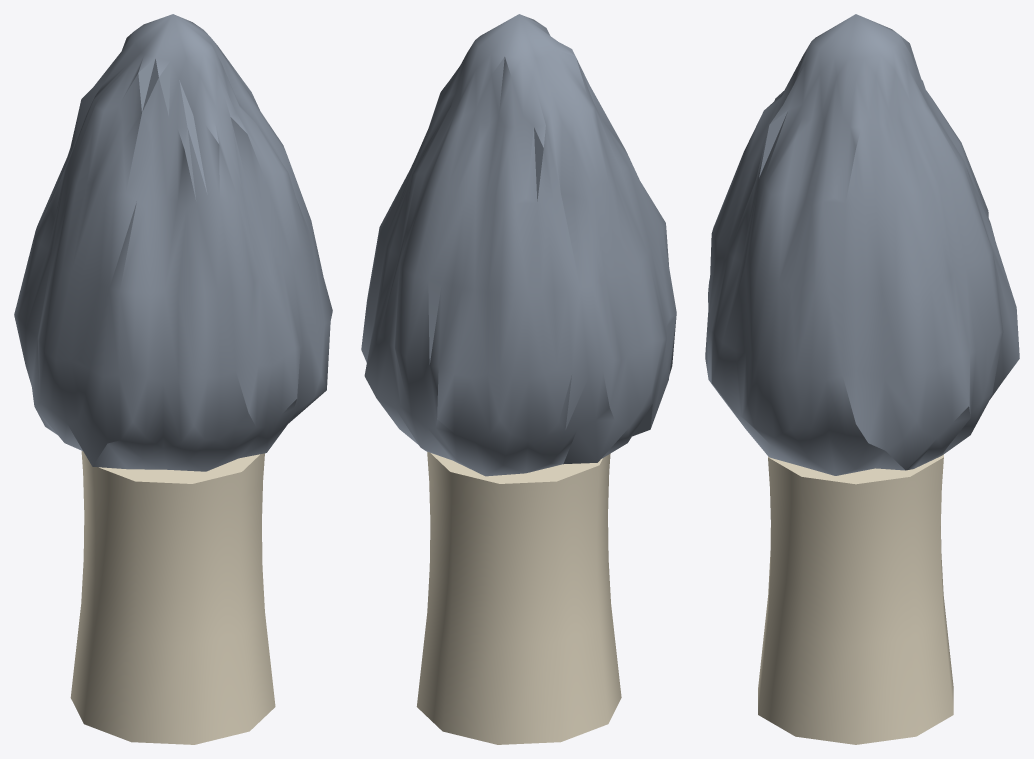
Rendered from IronMorel.fbx.
3 renders of one model, left to right at view 1: azimuth 30°, elevation 25°; view 2: azimuth 150°, elevation 25°; view 3: azimuth 270°, elevation 25°, orthographic.
Visible parts, largest first — view 1: Handle, Stem; view 2: Handle, Stem; view 3: Handle, Stem.
Boxes of the visible parts, bbox=[...] form: Handle: bbox=[14, 14, 332, 471]; Stem: bbox=[70, 451, 275, 744]; Handle: bbox=[361, 14, 676, 476]; Stem: bbox=[416, 451, 621, 744]; Handle: bbox=[705, 14, 1019, 475]; Stem: bbox=[758, 454, 953, 744].
Bounding box in the file's own units: 0.6085 × 1.48 × 0.6119.
